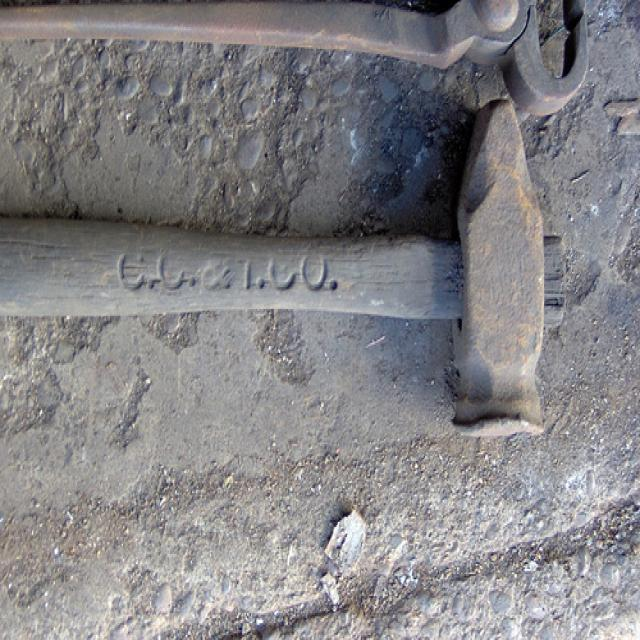hammer: (0, 71, 596, 466)
pliers: (0, 0, 609, 122)
